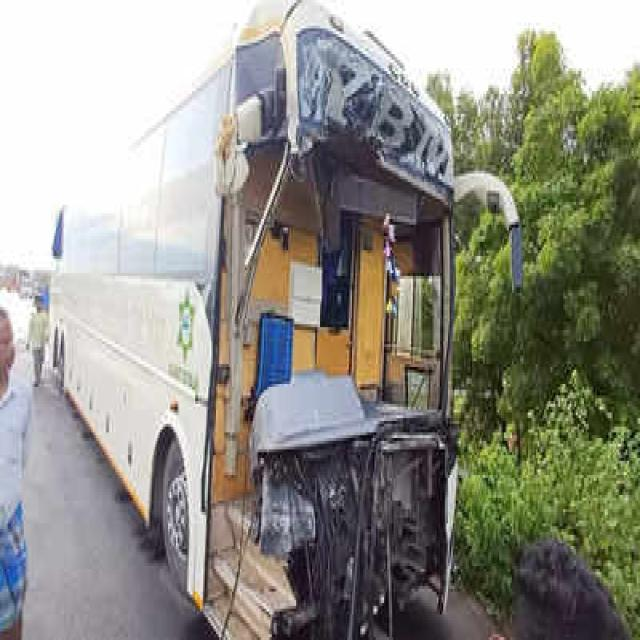accident: (50, 4, 460, 638)
